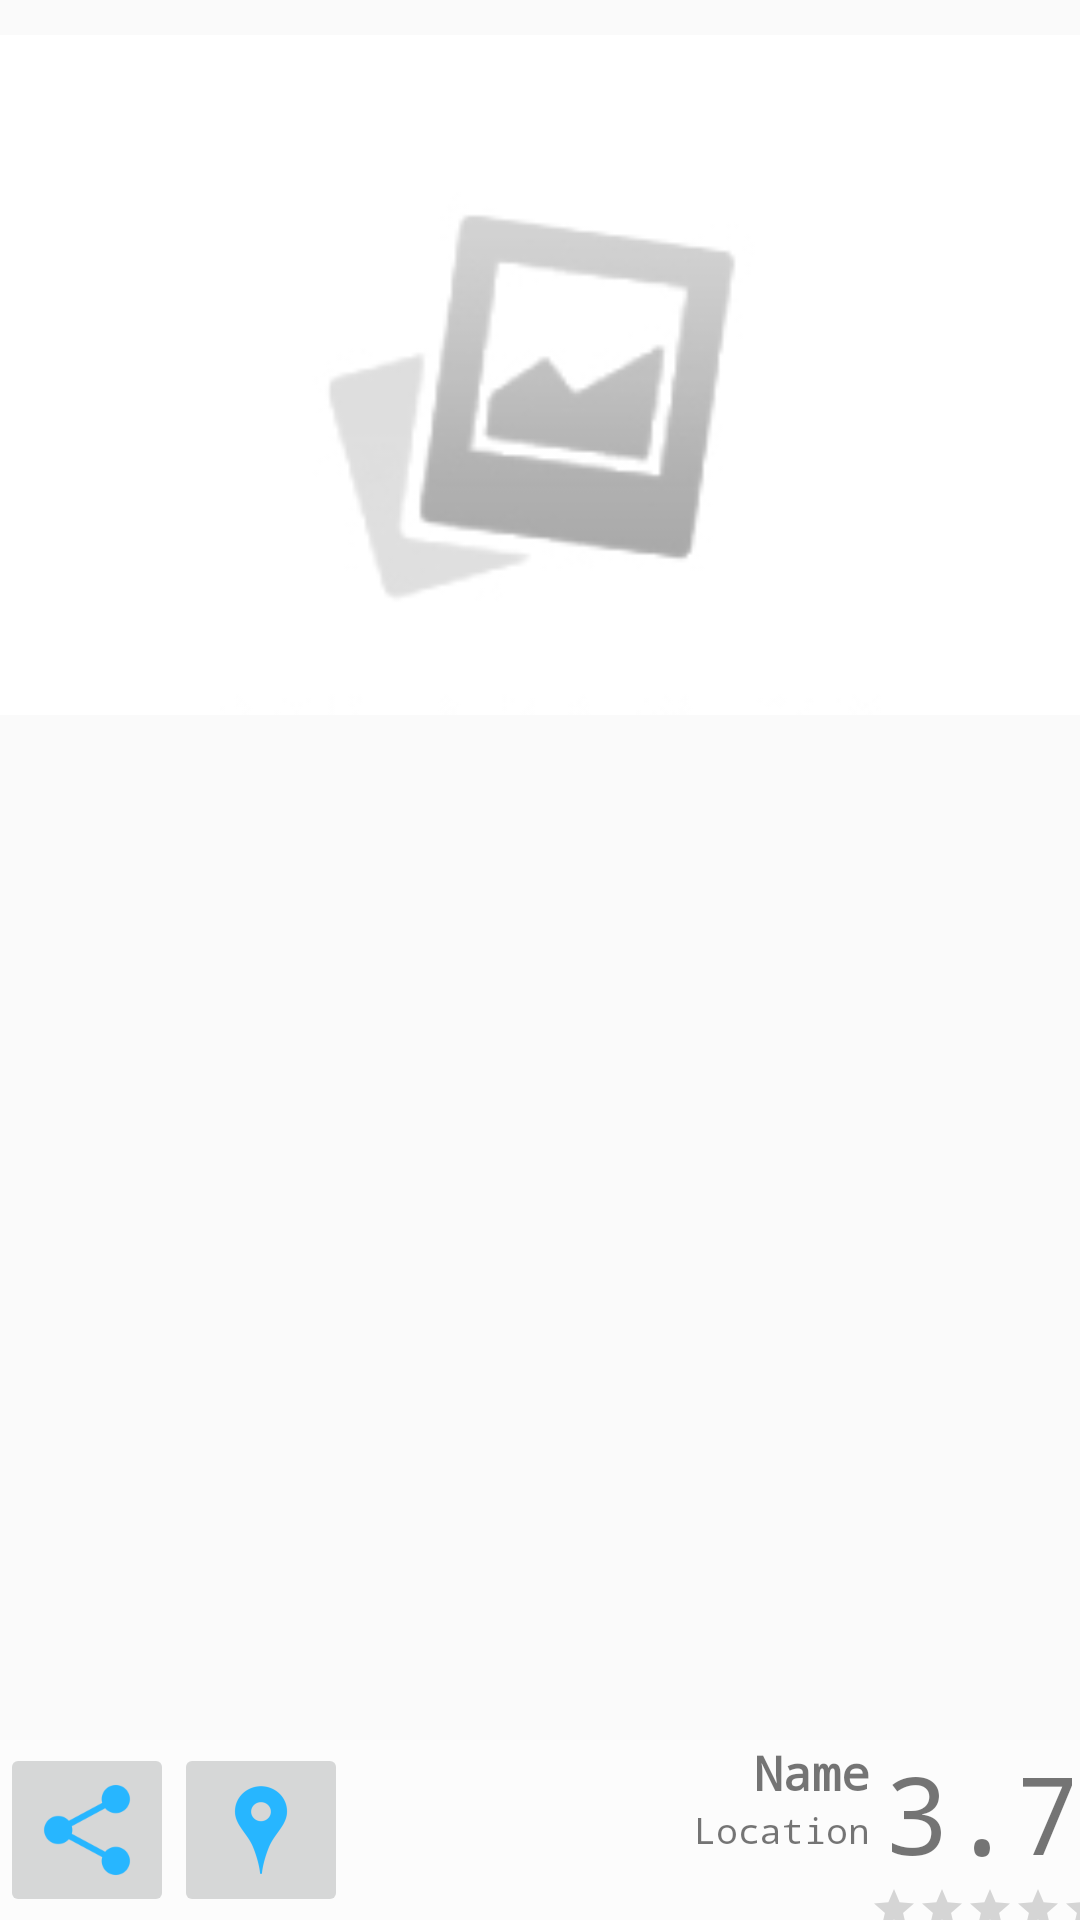

Locate icon controls on the screen. Image size 1080*1920, boxes as {"x1": x1, "y1": y1, "x2": x2, "y2": y2}.
share: {"x1": 12, "y1": 1761, "x2": 162, "y2": 1899}
